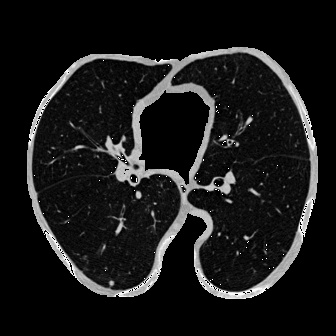PN: (109, 281, 113, 285)
